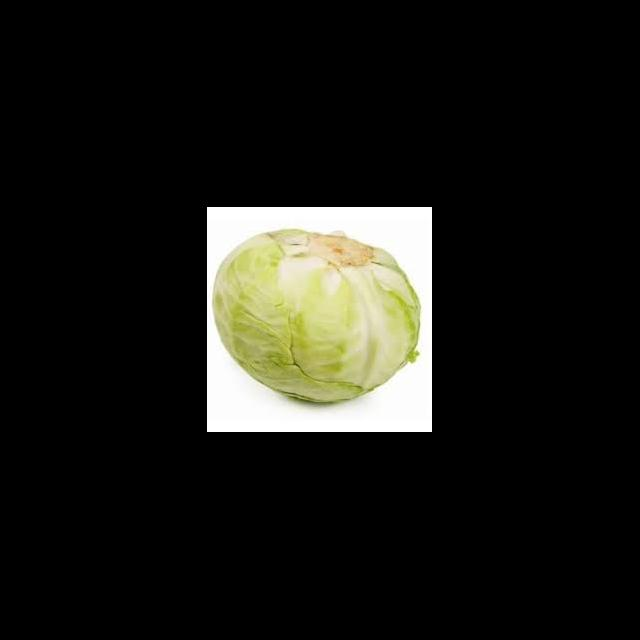cabbage: (213, 225, 432, 414)
